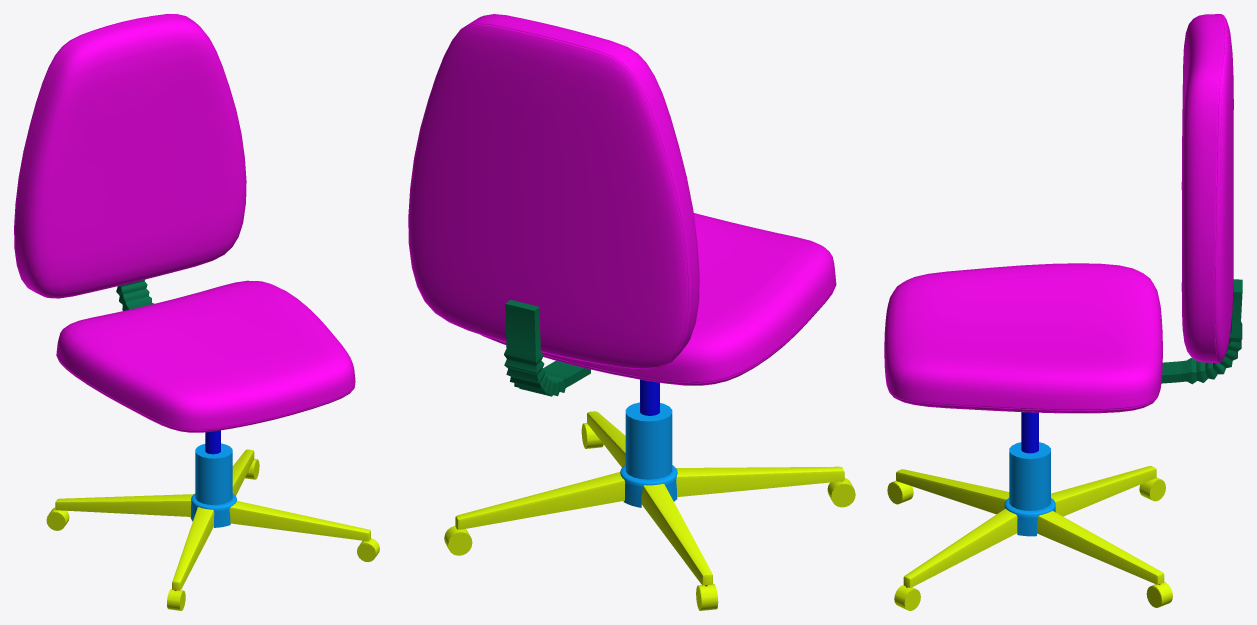
Rendered from ASHISH_CHAIR1.FBX.
3 views of the same model, side by side, from view 1: azimuth 30°, elevation 25°; view 2: azimuth 150°, elevation 25°; view 3: azimuth 270°, elevation 25° (orthographic). The views are drawn at different scales.
Parts seen in each view (by area): view 1: Box002; view 2: Box002; view 3: Box002.
Boxes of the visible parts, left/top/right/bottom form: Box002: left=14, top=14, right=379, bottom=610; Box002: left=408, top=14, right=855, bottom=610; Box002: left=884, top=14, right=1242, bottom=610.
Size of the model in its own units: 67.64 by 130 by 82.19.
